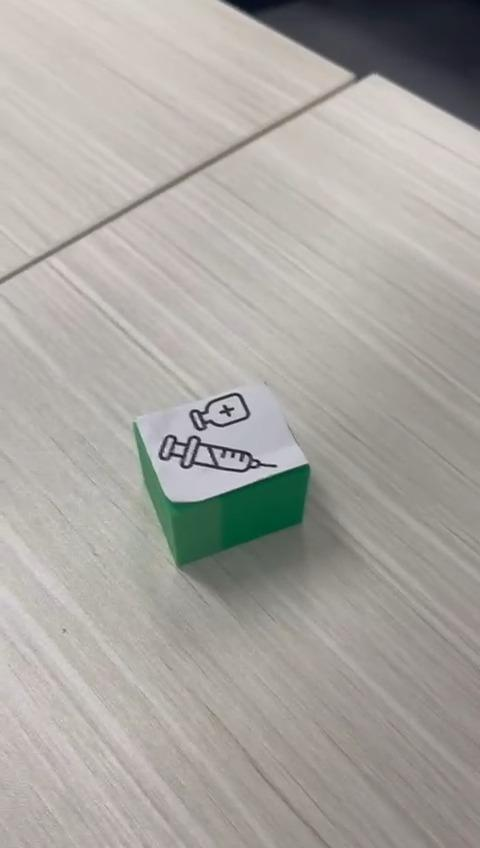antiseptic cream: (130, 379, 311, 568)
